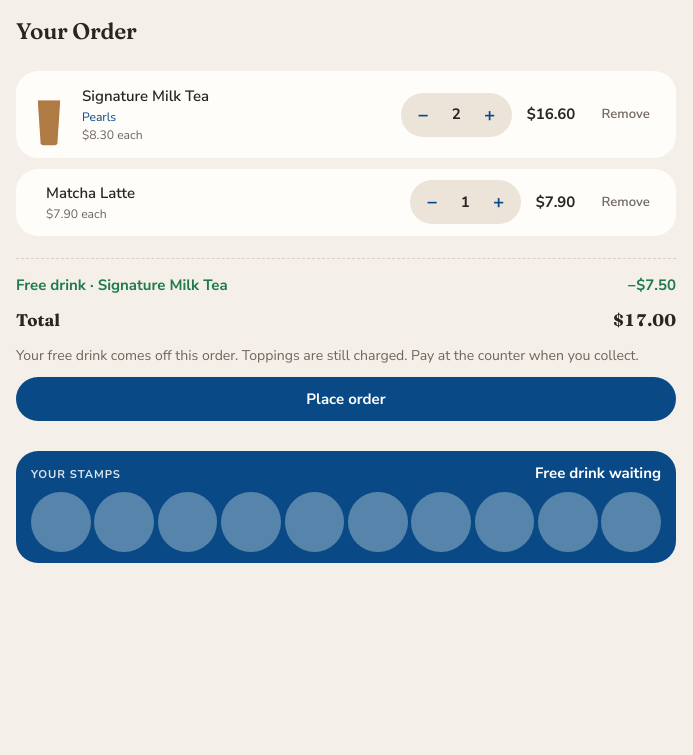
OrderPanel and the pearl card › takes the free drink off the first drink at its menu price, leaving toppings charged
Check: the text "Free drink · Signature Milk Tea" is shown, box [16,274,228,297]
What coordinates should you click on to do the following:
click the button "Place order"
I would click on:
 (346, 399)
Its box is [16,377,676,421].
(page scrolled)
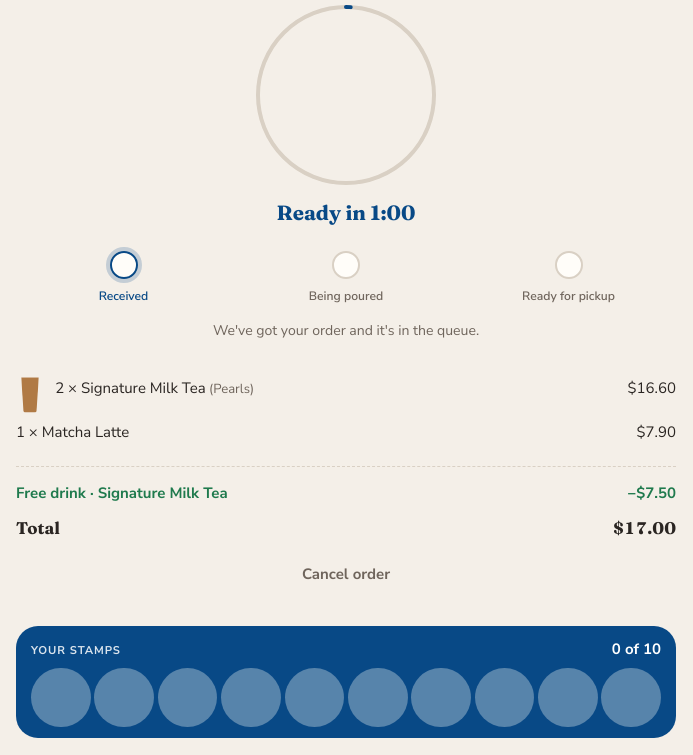
Check: the element "Your stamps" shows "0 of 10", box [612,638,661,658]
